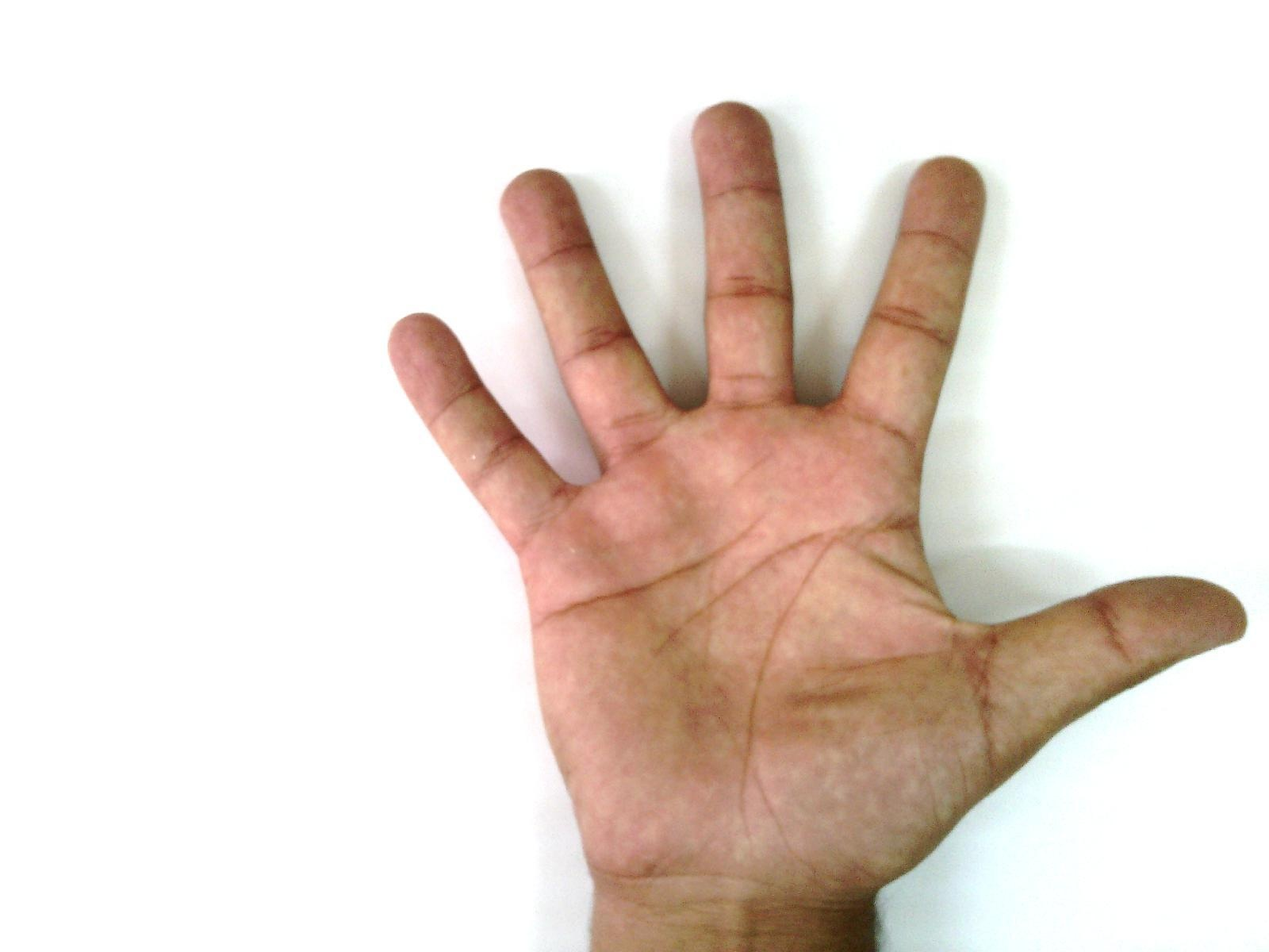open_palm: (384, 100, 1249, 919)
